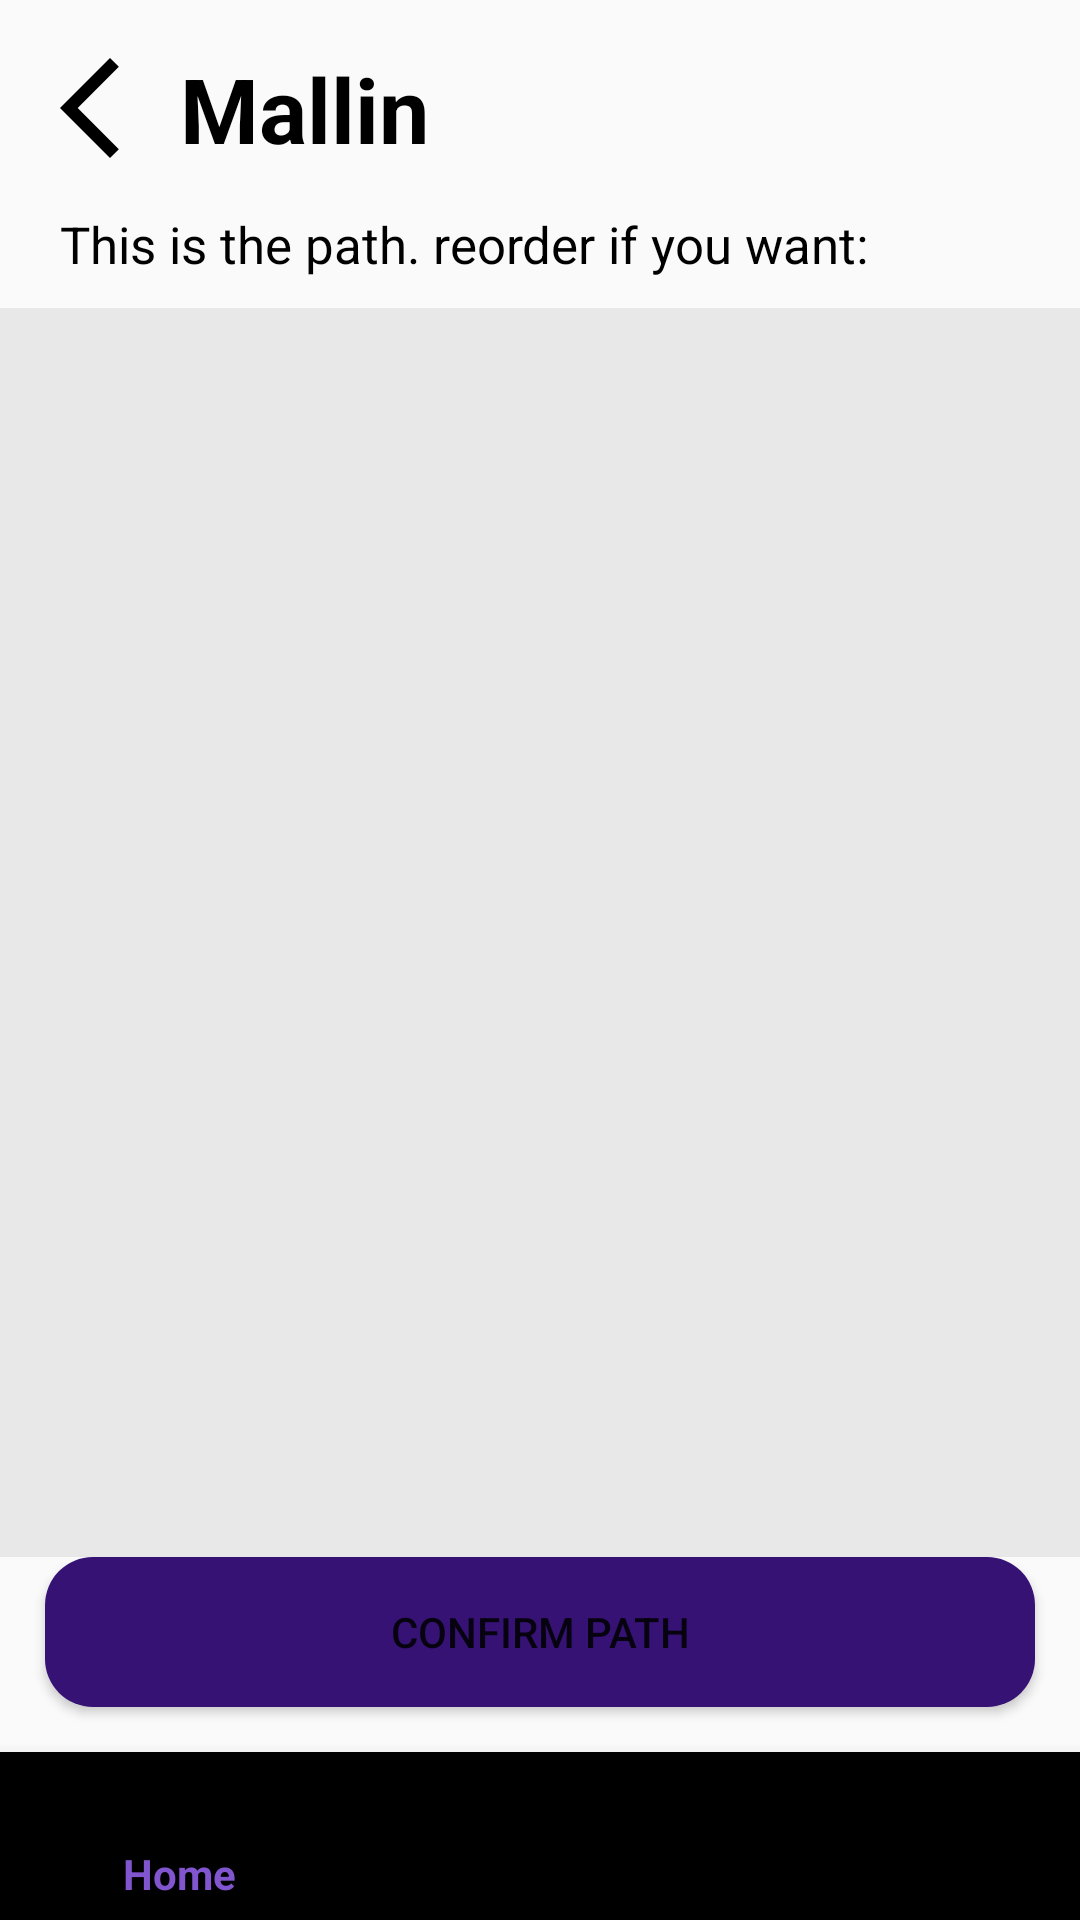

Locate icon controls on the screen. Image size 1080*1920, boxes as (x1, y1, x2, y2).
back: (60, 58, 119, 158)
